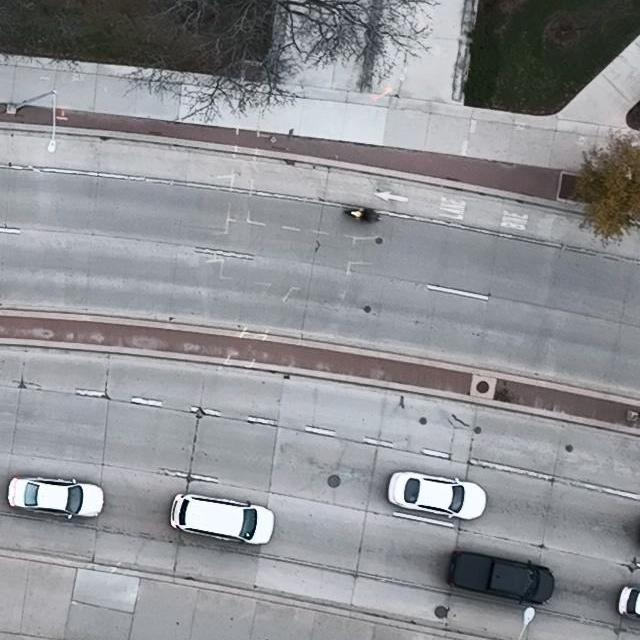car: (446, 550, 555, 607), (169, 493, 275, 544), (387, 470, 487, 520), (5, 475, 104, 521), (617, 584, 640, 624)
